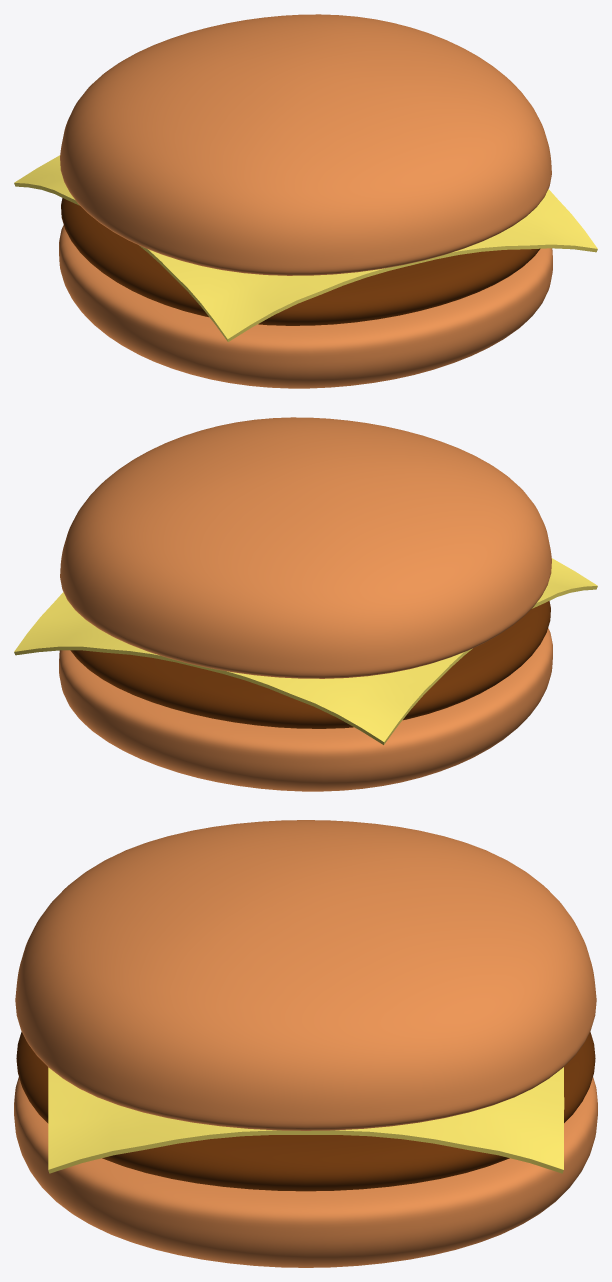
File: hamburger.glb
3 views of the same model, one above another, from view 1: azimuth 30°, elevation 25°; view 2: azimuth 150°, elevation 25°; view 3: azimuth 270°, elevation 25° (orthographic). The views are drawn at different scales.
Parts seen in each view (by area): view 1: Cube.002, Cube, Cube.001, Plane; view 2: Cube.002, Cube, Cube.001, Plane; view 3: Cube.002, Cube, Cube.001, Plane.
Boxes of the visible parts, x1,y1,x2,y2 form: Cube.002: (60, 14, 551, 275); Cube: (59, 225, 552, 388); Cube.001: (61, 198, 540, 325); Plane: (14, 155, 597, 341); Cube.002: (60, 417, 551, 678); Cube: (59, 628, 552, 791); Cube.001: (70, 601, 550, 728); Plane: (14, 558, 597, 744); Cube.002: (15, 820, 596, 1130); Cube: (14, 1077, 597, 1267); Cube.001: (16, 1031, 595, 1191); Plane: (48, 1067, 564, 1173).
Bounding box in the file's own units: 9.18 × 5.4 × 9.18.
